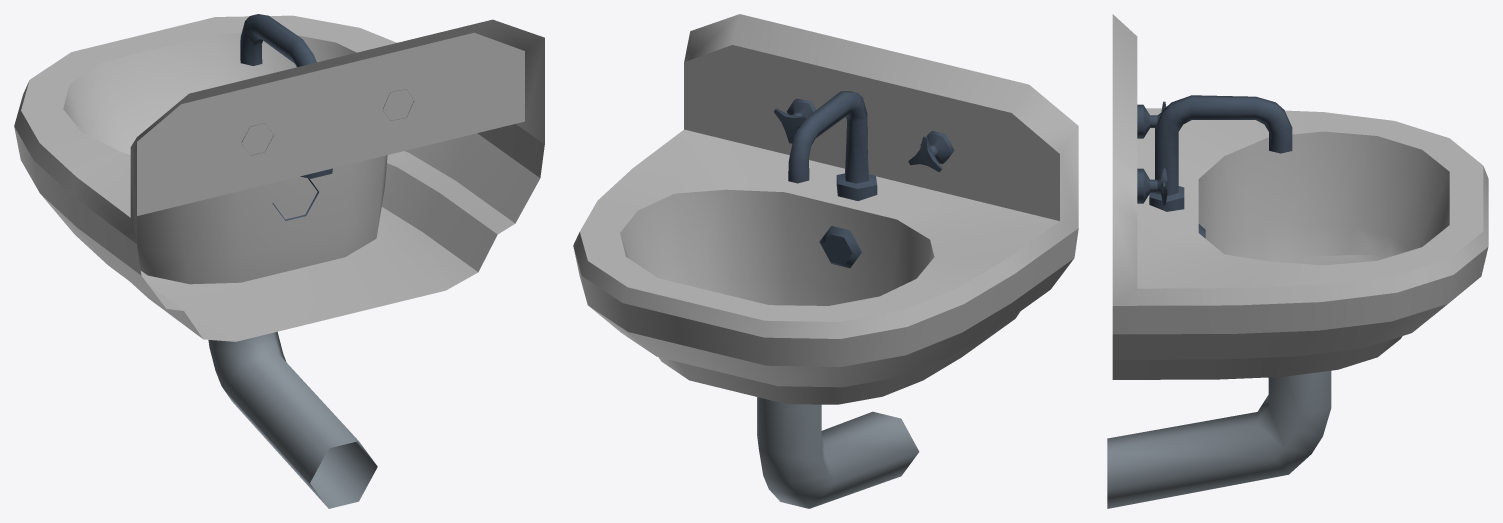
Rendered from Sink.fbx.
The picture shows the model from 3 angles, left to right: view 1: azimuth 30°, elevation 25°; view 2: azimuth 150°, elevation 25°; view 3: azimuth 270°, elevation 25°; orthographic projection. The views are drawn at different scales.
Visible parts, largest first — view 1: Sink; view 2: Sink; view 3: Sink.
Boxes of the visible parts, bbox=[...] form: Sink: bbox=[14, 14, 544, 508]; Sink: bbox=[573, 14, 1078, 508]; Sink: bbox=[1107, 14, 1488, 508].
Size of the model in its own units: 92.31 by 96.59 by 79.7.
